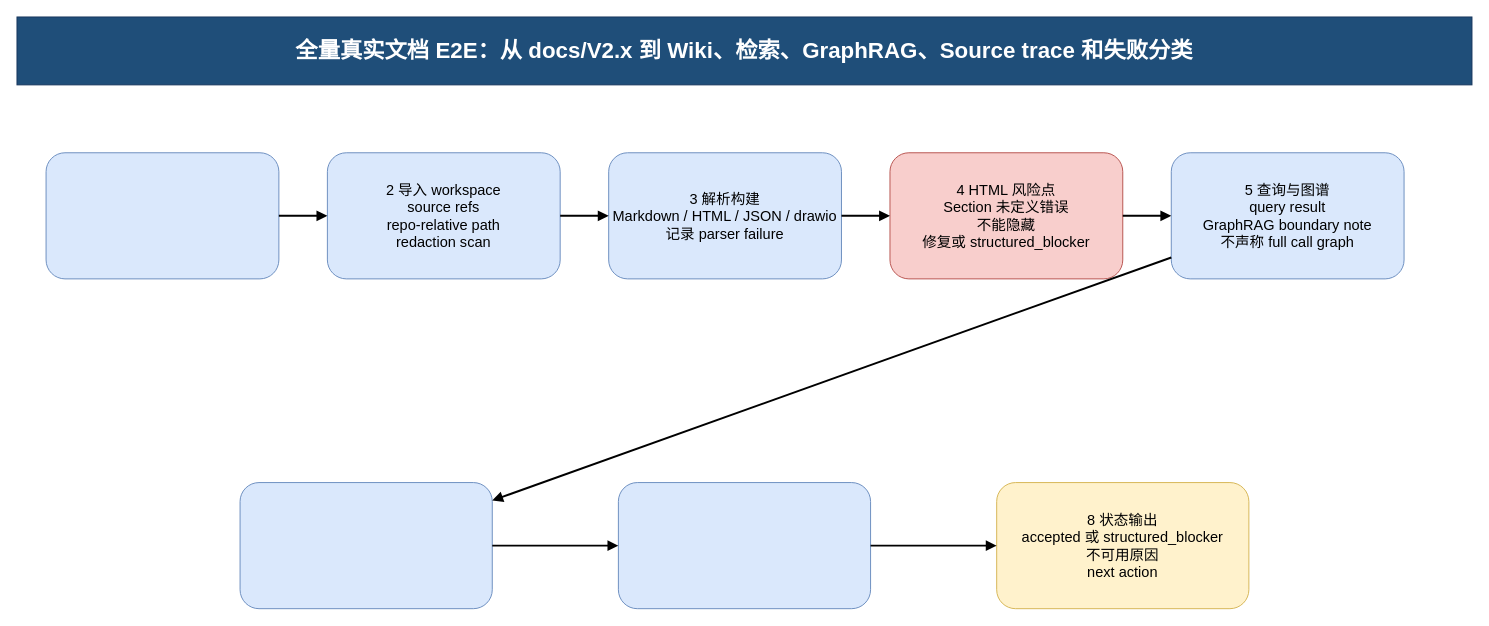
This 1489x626 diagram has some shape labels left out. The shapes that lost their labels are listed below. From the top down, each one's centre as x and y in pixels, then its label:
At pixel 162 215: "1 选择资料源 docs/V2.x 全量真实文档 排除临时文件和资源叉文件".
At pixel 365 545: "6 Source trace source refs unit evidence artifact refs".
At pixel 744 545: "7 验收报告 full_corpus_run.json parser_failures.json full_corpus_report.md".
